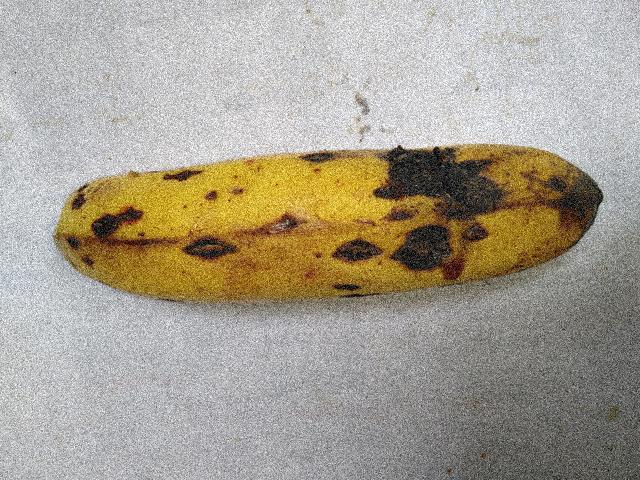rotten: (370, 120, 495, 281), (527, 153, 609, 232), (62, 167, 125, 257), (126, 127, 210, 191), (237, 185, 313, 244), (283, 129, 346, 179), (307, 225, 375, 271), (183, 229, 233, 267)
